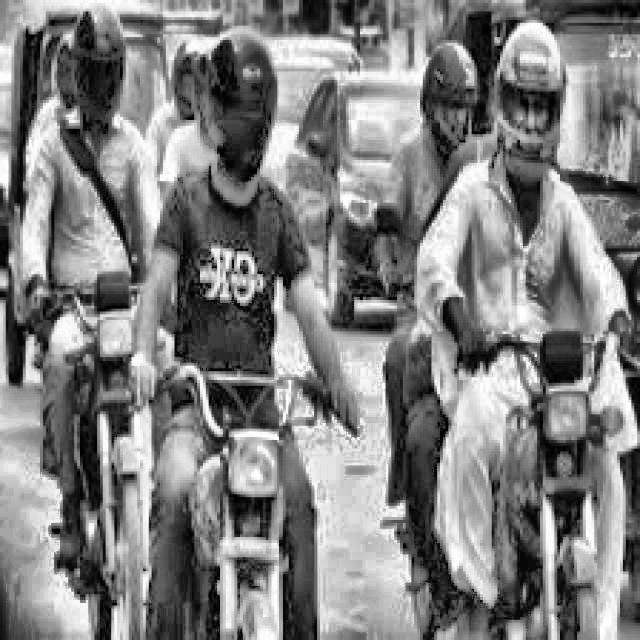motorcycle: (393, 290, 640, 640), (129, 323, 351, 640), (34, 251, 160, 640)
